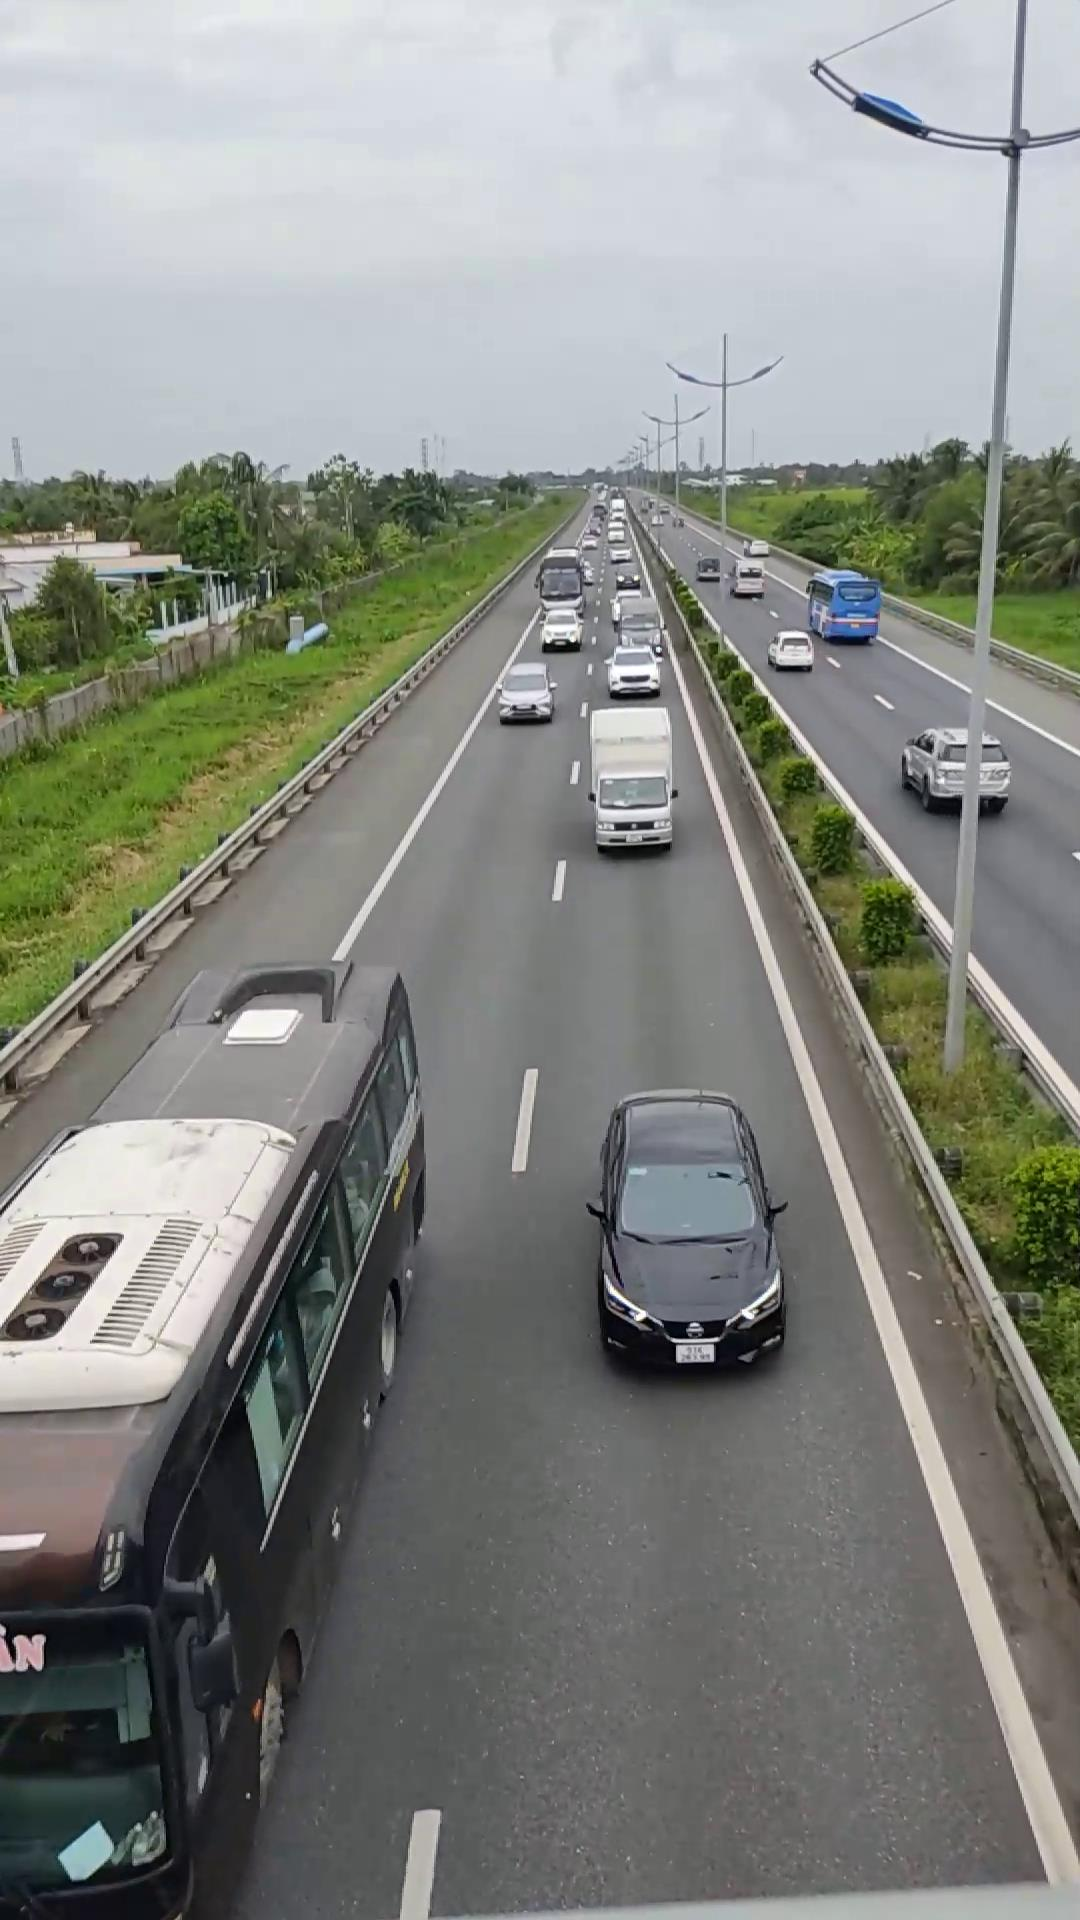bus: (0, 954, 417, 1913)
car: (587, 1087, 790, 1373)
truck: (581, 704, 676, 853)
